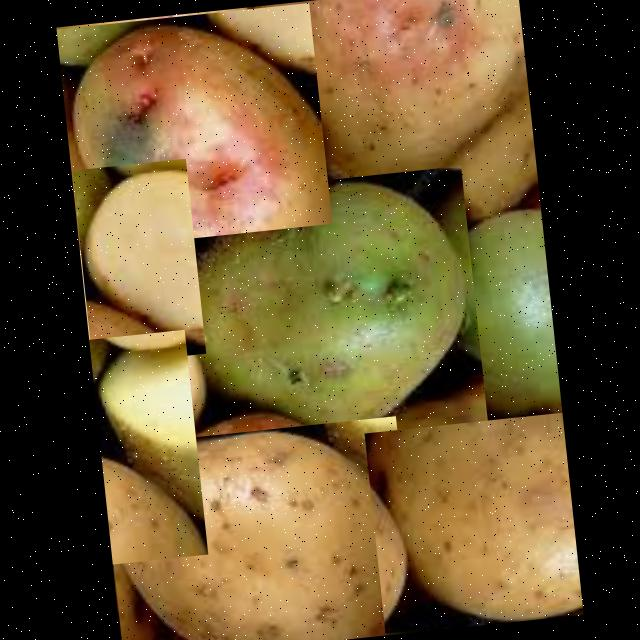Defected potato: (148, 165, 488, 458), (223, 0, 541, 236), (56, 2, 332, 248), (435, 202, 564, 432), (89, 328, 208, 563), (72, 157, 206, 364)
Diseased-fungal potato: (101, 414, 418, 640), (364, 411, 584, 635)
